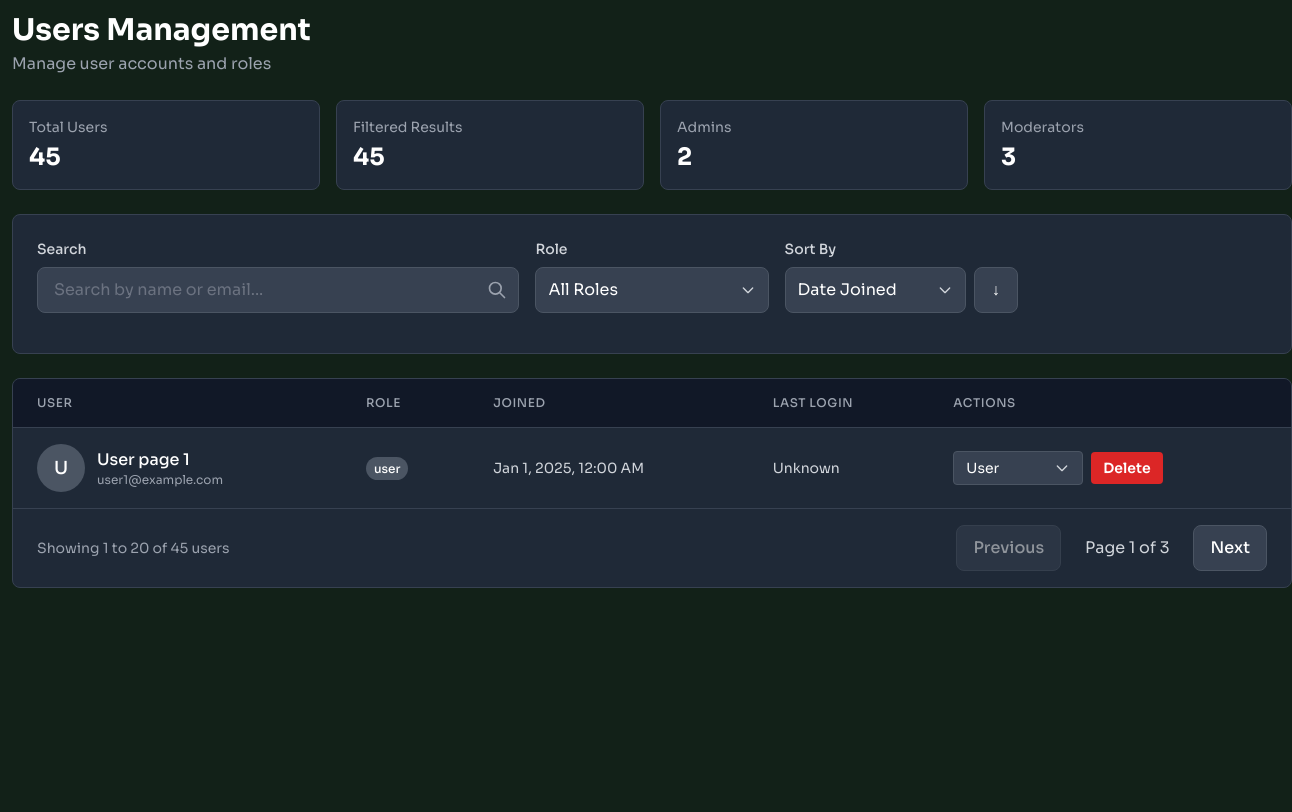
Test case: UsersManager › sends search and role filters to the server
In the field with placeholder "Search by name or email...": (278, 290) [37,267,519,313], type "ada"
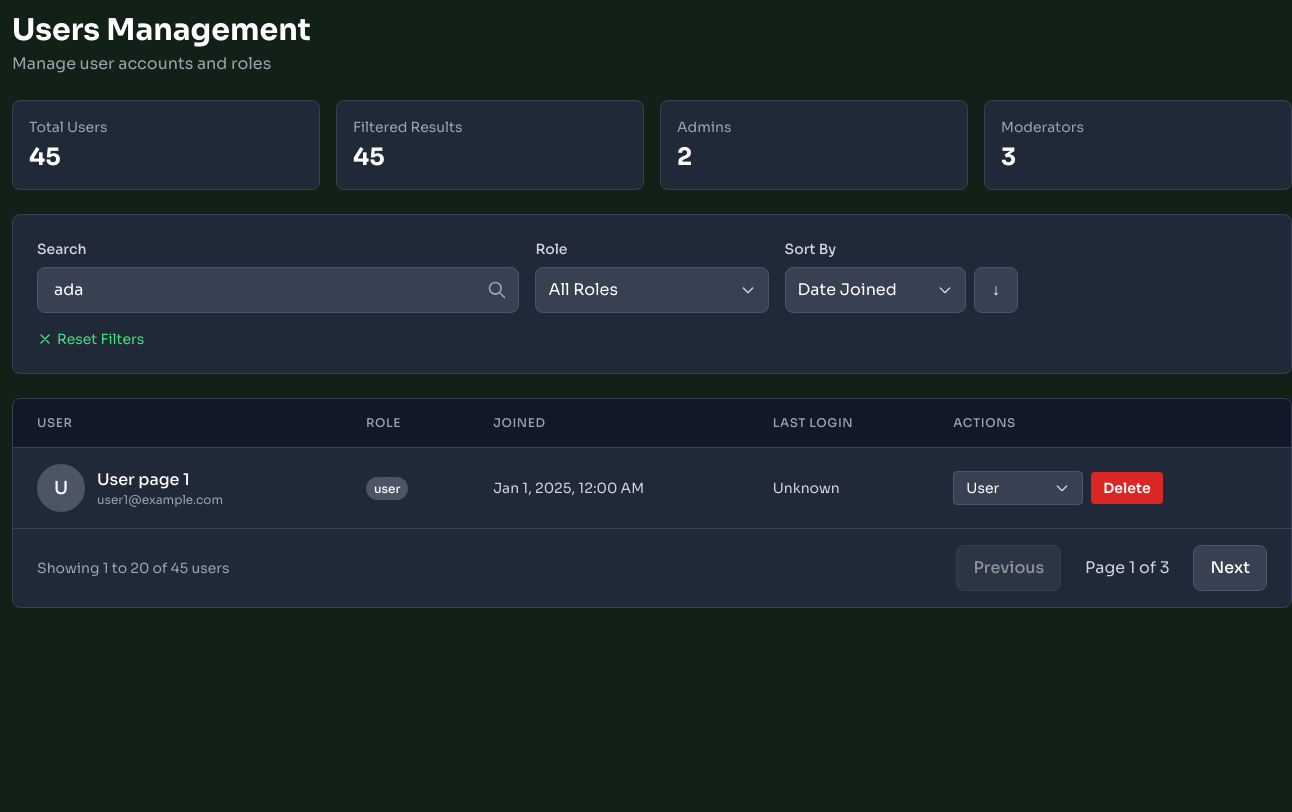
Select "Admin" in the dropdown labelled "Role": (652, 290) [535,267,769,313]
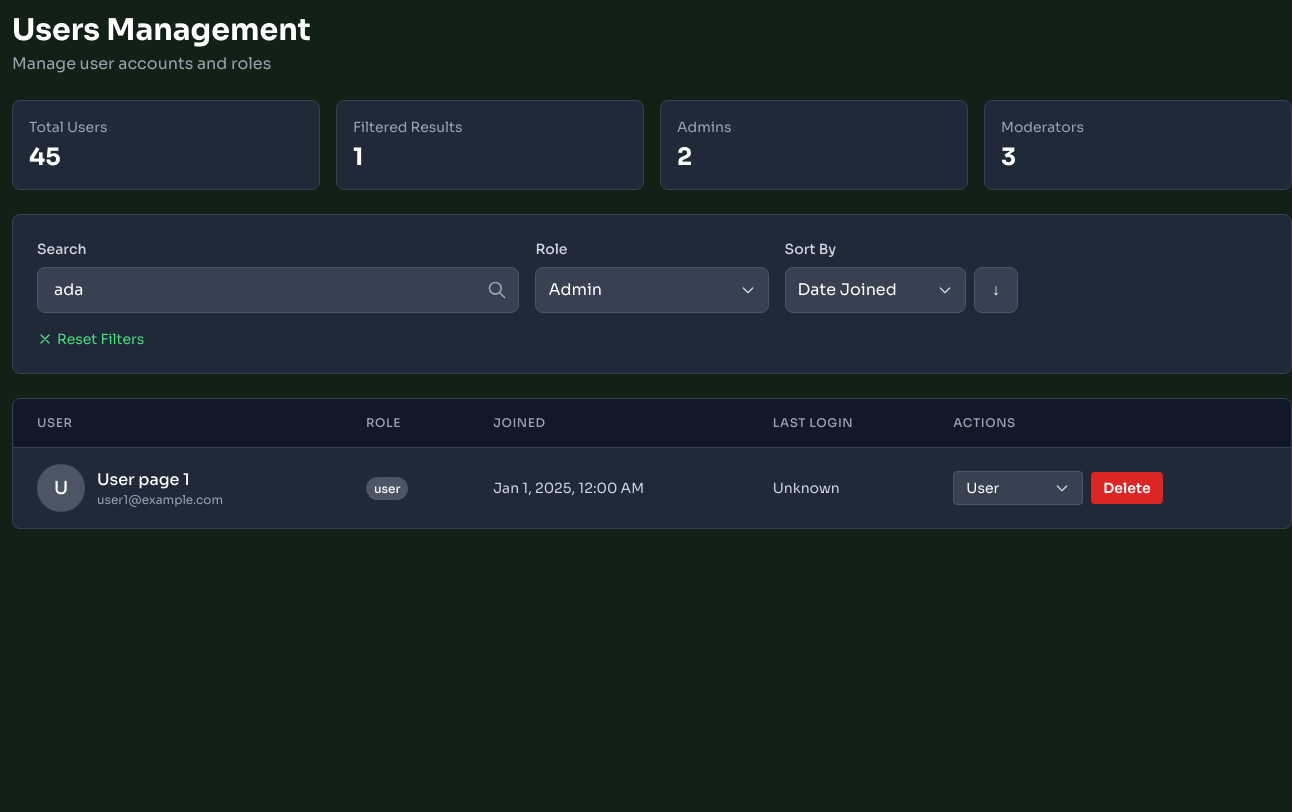
Expected: the text "1" is shown, [353,142,363,172]
